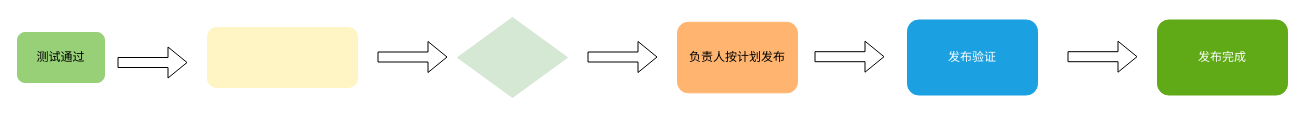
This 1305x115 diagram has some shape labels left out. The centre of each missing label's shape, as x and y in pixels:
"FT 群里同步版本发布信息 （发布流水线、功能清单）" belongs at point 282,57.
"PMC FT 群里审批" belongs at point 512,57.
